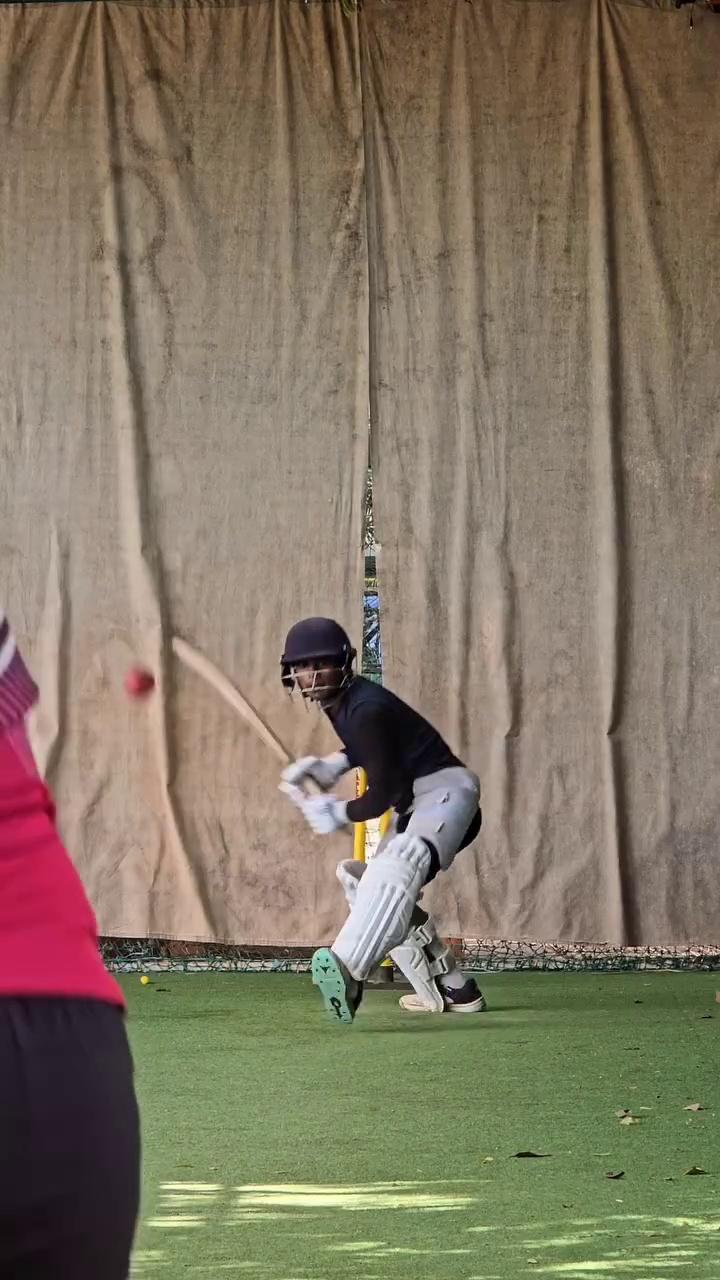bat: (161, 622, 302, 778)
